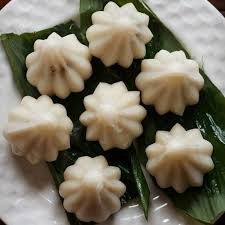modak: (132, 41, 215, 115), (51, 156, 133, 224), (18, 28, 99, 94), (141, 122, 220, 189), (82, 2, 161, 65), (1, 98, 75, 163), (75, 85, 146, 149)
